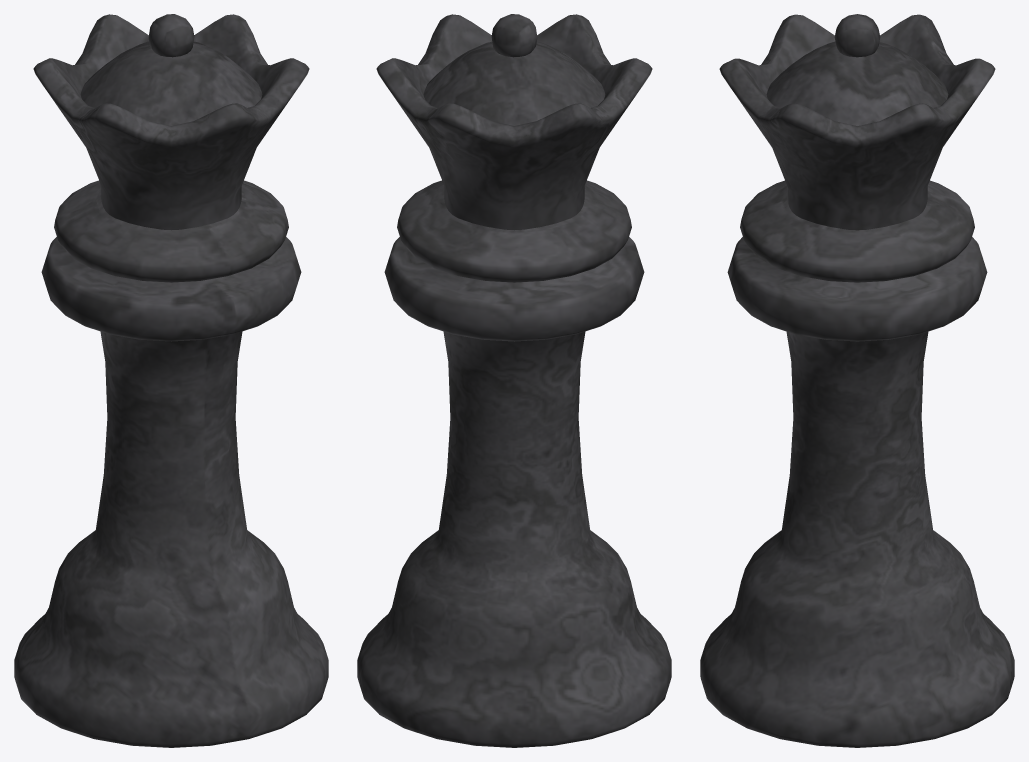
The model's file is GEO_BlackQueen.obj.
3 renders of one model, left to right at view 1: azimuth 30°, elevation 25°; view 2: azimuth 150°, elevation 25°; view 3: azimuth 270°, elevation 25°, orthographic.
Parts seen in each view (by area): view 1: GEO_BlackQueen; view 2: GEO_BlackQueen; view 3: GEO_BlackQueen.
Boxes of the visible parts, <box> form: GEO_BlackQueen: <box>14,14,328,747</box>; GEO_BlackQueen: <box>357,14,671,747</box>; GEO_BlackQueen: <box>700,14,1014,747</box>.
Bounding box in the file's own units: 0.0374 × 0.0876 × 0.0374.
